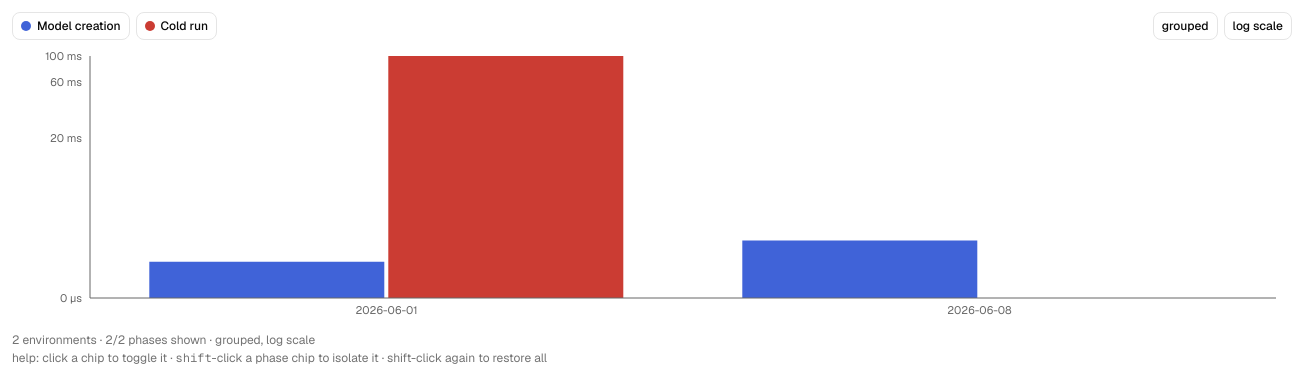
it: PhaseBreakdownChart › offers a stacked toggle (stacked forces linear)
Click the button "grouped". click: (1185, 26)
box: [1153,12,1218,40]
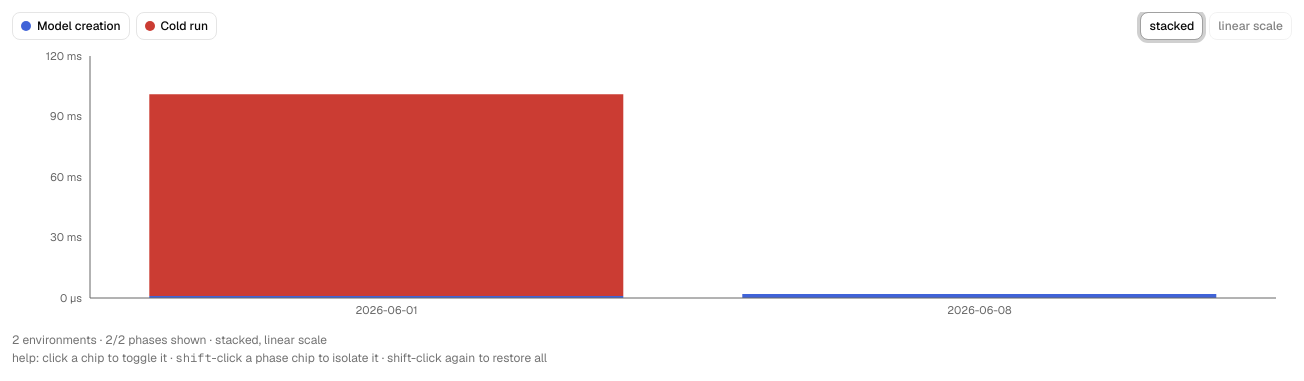
Now the text "2 environments · 2/2 phases shown · stacked, linear scale" is shown, box [12,332,327,348]
Now the button "linear scale" is disabled, box [1209,12,1292,40]
